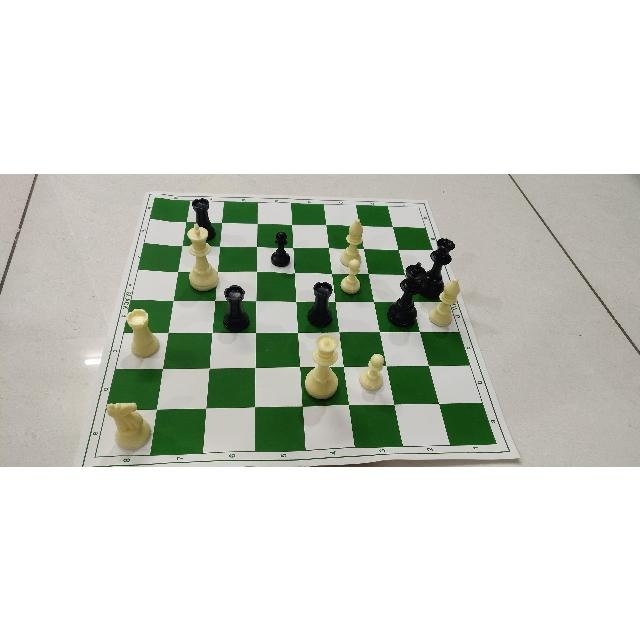black-king: (386, 260, 432, 328)
black-pawn: (269, 229, 291, 267)
black-queen: (417, 234, 457, 300)
black-rook: (220, 283, 253, 333), (305, 279, 338, 327), (190, 196, 216, 240)
white-bishop: (428, 274, 462, 325), (338, 215, 365, 267)
white-king: (188, 222, 220, 289)
white-knight: (96, 397, 153, 452)
white-pawn: (358, 352, 385, 392), (337, 258, 364, 294)
white-queen: (304, 333, 342, 399)
white-rook: (125, 306, 161, 358)
